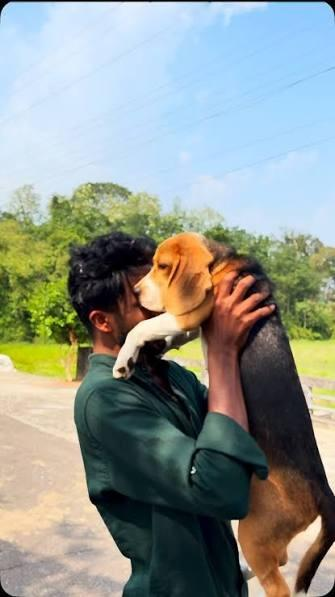adult_dog: (111, 233, 335, 597)
non-dog: (67, 229, 274, 591)
